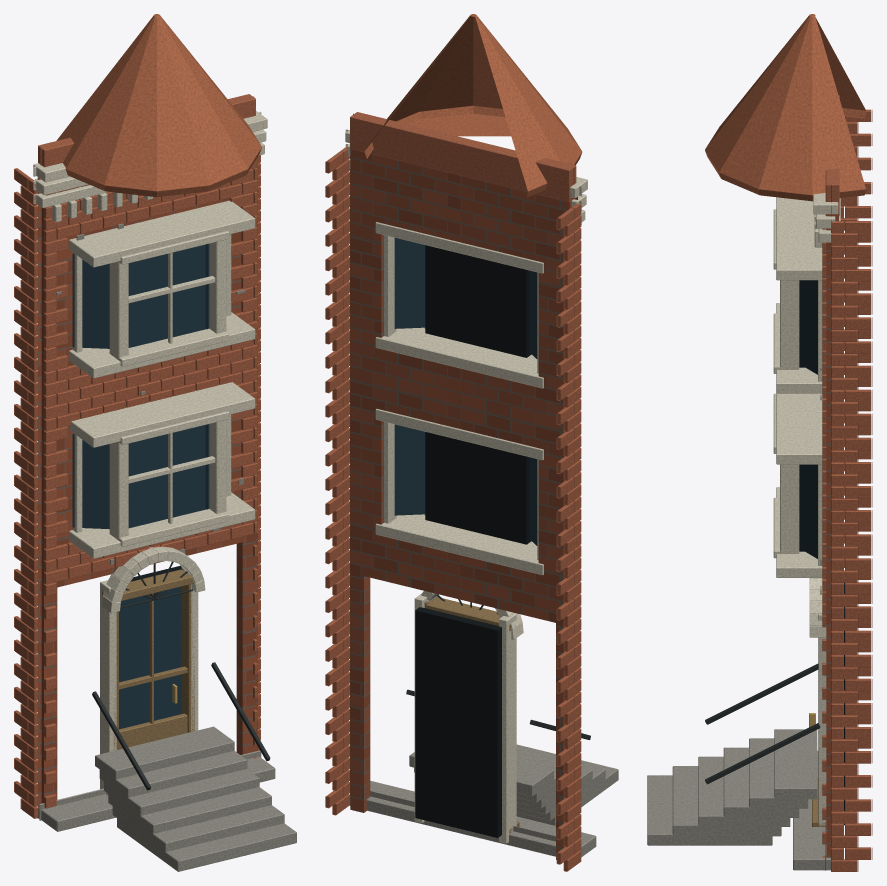
Rendered from VICT6A_lod0.glb.
3 renders of one model, left to right at view 1: azimuth 30°, elevation 25°; view 2: azimuth 150°, elevation 25°; view 3: azimuth 270°, elevation 25°, orthographic. The views are drawn at different scales.
Visible parts, largest first — view 1: VICT6A_FRONT_LOD0; view 2: VICT6A_FRONT_LOD0; view 3: VICT6A_FRONT_LOD0.
Boxes of the visible parts, x1,y1,x2,y2 form: VICT6A_FRONT_LOD0: (14,14,296,871); VICT6A_FRONT_LOD0: (325,14,618,871); VICT6A_FRONT_LOD0: (647,14,872,871).
Bounding box in the file's own units: 3.44 × 11.3 × 2.88.
13 materials, 10 textured.
